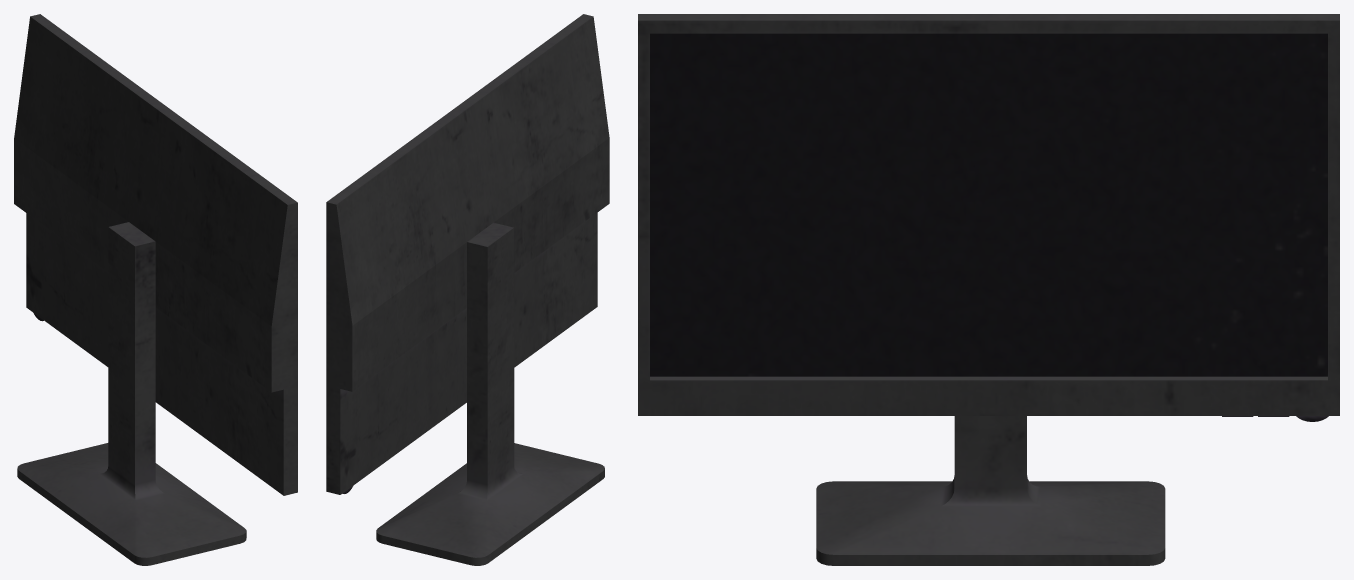
File: Monitor.fbx
3 views of the same model, side by side, from view 1: azimuth 30°, elevation 25°; view 2: azimuth 150°, elevation 25°; view 3: azimuth 270°, elevation 25° (orthographic). The views are drawn at different scales.
Visible parts, largest first — view 1: Monitor; view 2: Monitor; view 3: Monitor.
Part boxes in pixels (box(x1,y1,x2,y2)): Monitor: box(14, 14, 297, 565); Monitor: box(326, 14, 609, 565); Monitor: box(638, 14, 1339, 565).
Bounding box in the file's own units: 0.182 × 0.6151 × 0.7345.
